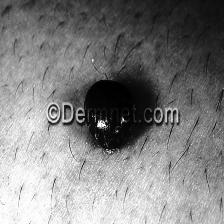Benign Marking or Mole: (80, 80, 138, 145)
